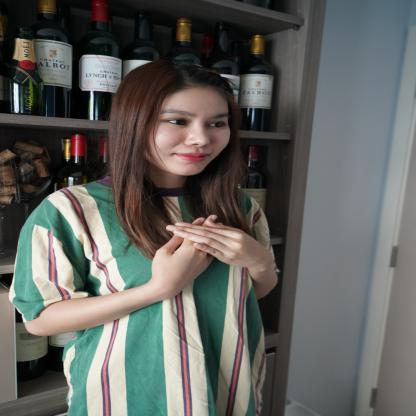Grieve: (133, 210, 276, 299)
